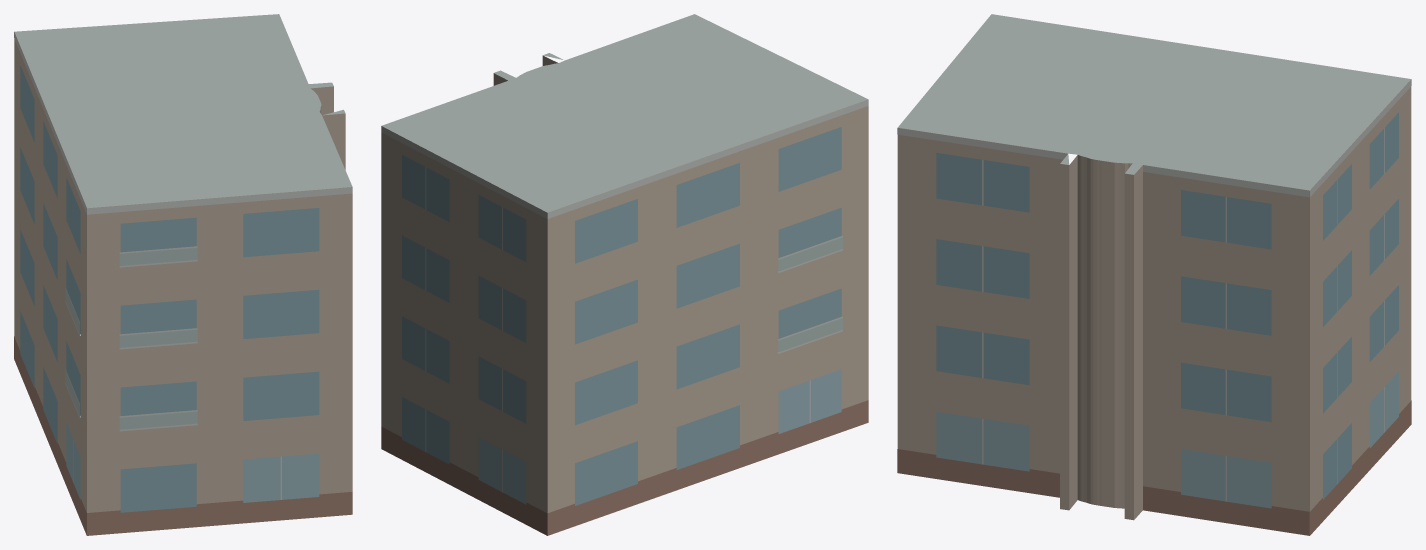
File: survey-upis-33027548.glb
The picture shows the model from 3 angles, left to right: view 1: azimuth 30°, elevation 25°; view 2: azimuth 150°, elevation 25°; view 3: azimuth 270°, elevation 25°; orthographic projection. The views are drawn at different scales.
Parts seen in each view (by area): view 1: survey-upis-33027548.tmp; view 2: survey-upis-33027548.tmp; view 3: survey-upis-33027548.tmp.
Part boxes in pixels (x1,y1,x2,y2): survey-upis-33027548.tmp: (14, 14, 352, 535); survey-upis-33027548.tmp: (381, 14, 868, 535); survey-upis-33027548.tmp: (897, 14, 1411, 535).
Bounding box in the file's own units: 13.5 × 12.3 × 16.6.
